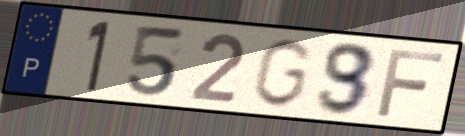1: (85, 19, 113, 94)
2: (187, 32, 247, 106)
5: (123, 23, 188, 99)
9: (313, 40, 381, 118)
F: (373, 46, 447, 119)
G: (248, 36, 316, 110)
